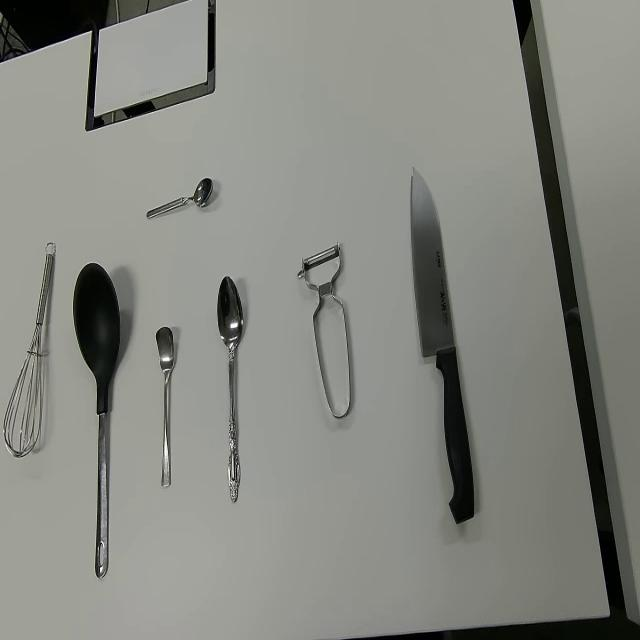Desert-Spoon: (217, 274, 243, 503)
Kitchen-Knife: (410, 164, 475, 526)
Peeler: (298, 240, 351, 421)
Serving-Spoon: (72, 260, 120, 580)
Tea-Spoon: (155, 325, 175, 490), (146, 176, 214, 219)
Whisk: (2, 240, 57, 459)
